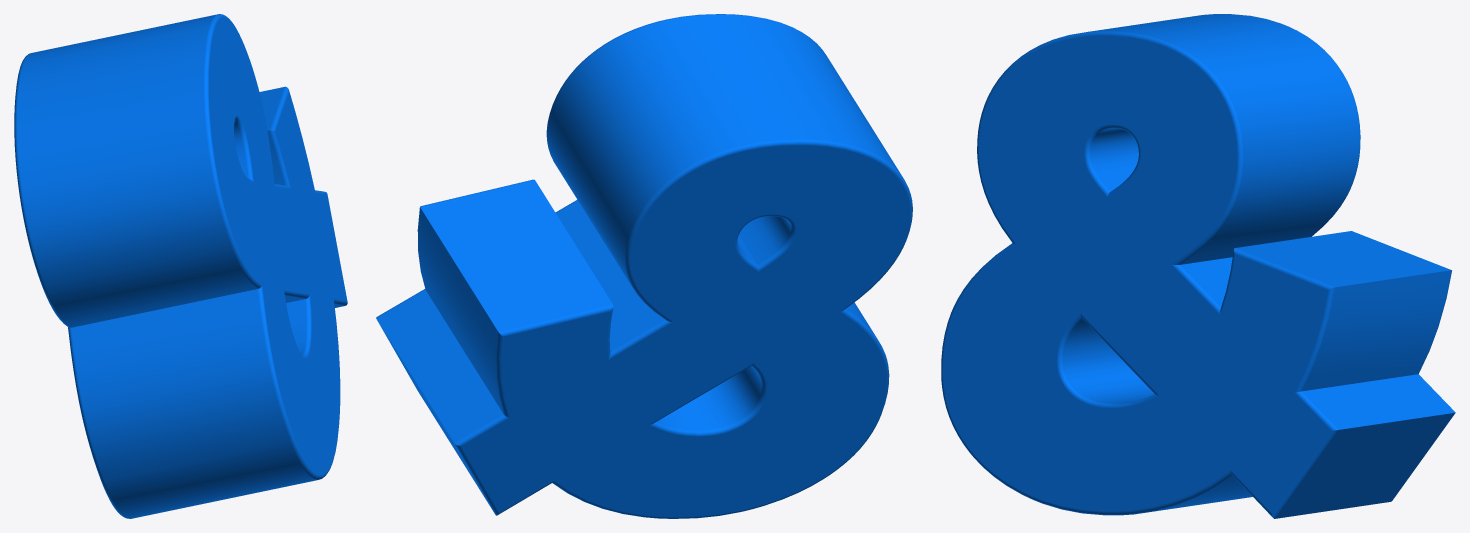
3 renders of one model, left to right at view 1: azimuth 30°, elevation 25°; view 2: azimuth 150°, elevation 25°; view 3: azimuth 270°, elevation 25°, orthographic. The views are drawn at different scales.
Visible parts, largest first — view 1: &; view 2: &; view 3: &.
Part boxes in pixels (bbox=[...]): &: bbox=[14, 14, 347, 518]; &: bbox=[376, 14, 912, 518]; &: bbox=[941, 14, 1455, 518].
Size of the model in its own units: 4.64 by 4.99 by 4.84.
